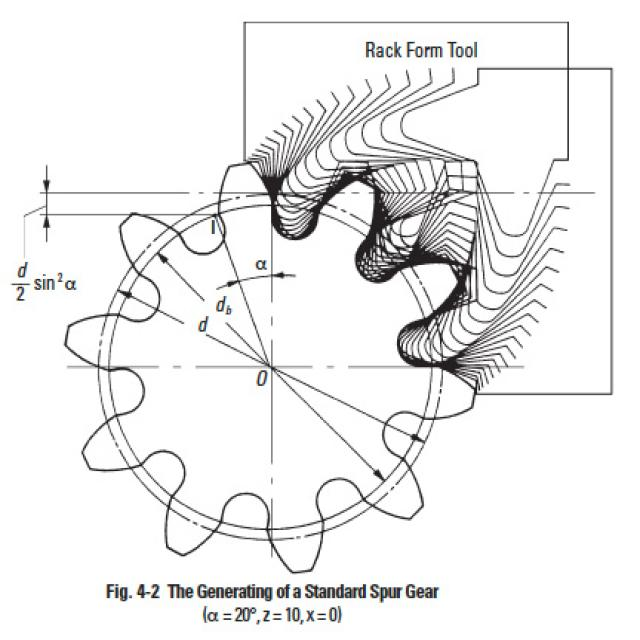Gear: (62, 158, 478, 578)
